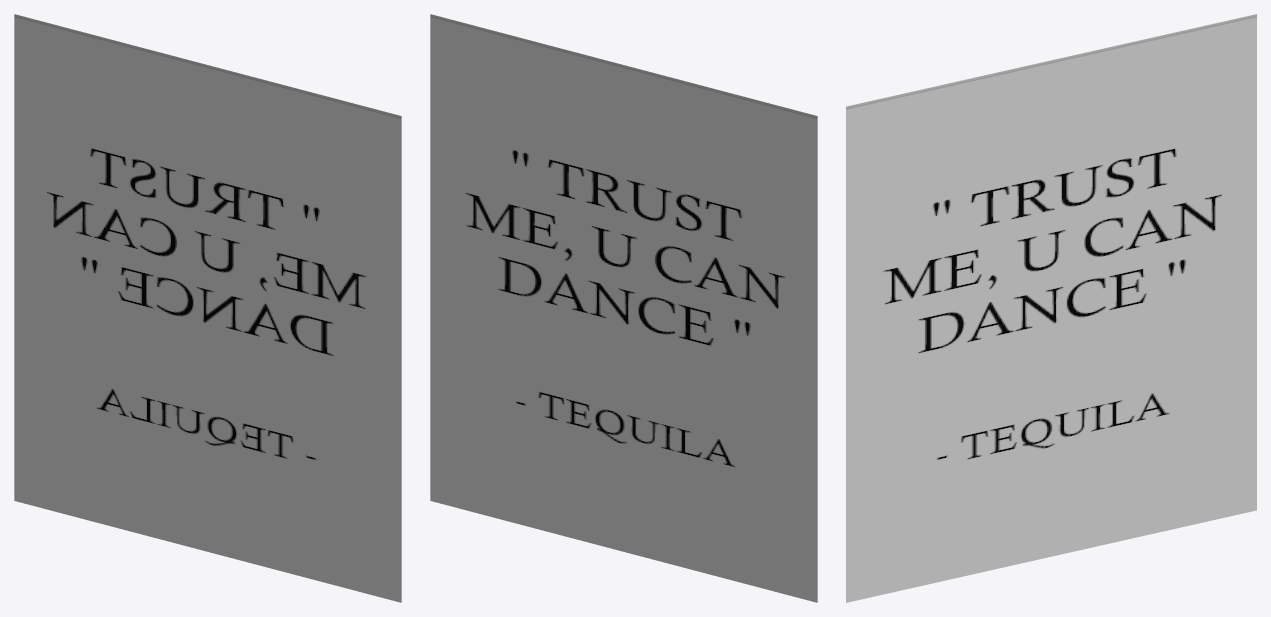
Rendered from poster-tequila.glb.
The picture shows the model from 3 angles, left to right: view 1: azimuth 30°, elevation 25°; view 2: azimuth 210°, elevation 25°; view 3: azimuth 270°, elevation 25°; orthographic projection.
Visible parts, largest first — view 1: Plane.001; view 2: Plane.001; view 3: Plane.001.
Part boxes in pixels (box(x1,y1,x2,y2)): Plane.001: box(14, 14, 401, 602); Plane.001: box(430, 14, 817, 602); Plane.001: box(846, 14, 1256, 602).
Bounding box in the file's own units: 0.7479 × 1.87 × 1.4.
1 material, 1 textured.
